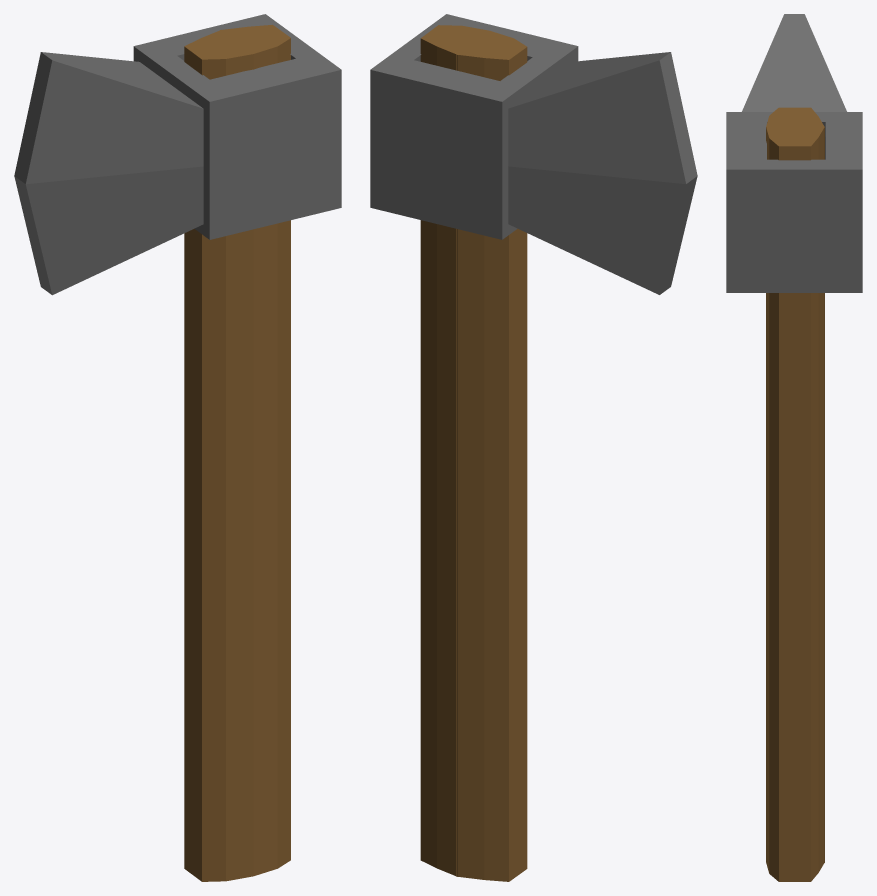
File: LowPolyAxe.fbx
3 views of the same model, side by side, from view 1: azimuth 30°, elevation 25°; view 2: azimuth 150°, elevation 25°; view 3: azimuth 270°, elevation 25° (orthographic). The views are drawn at different scales.
Visible parts, largest first — view 1: Axe; view 2: Axe; view 3: Axe.
Boxes of the visible parts, left/top/right/bottom form: Axe: left=14, top=14, right=341, bottom=881; Axe: left=370, top=14, right=697, bottom=881; Axe: left=726, top=14, right=862, bottom=881.
Size of the model in its own units: 42.18 by 122 by 19.62.
